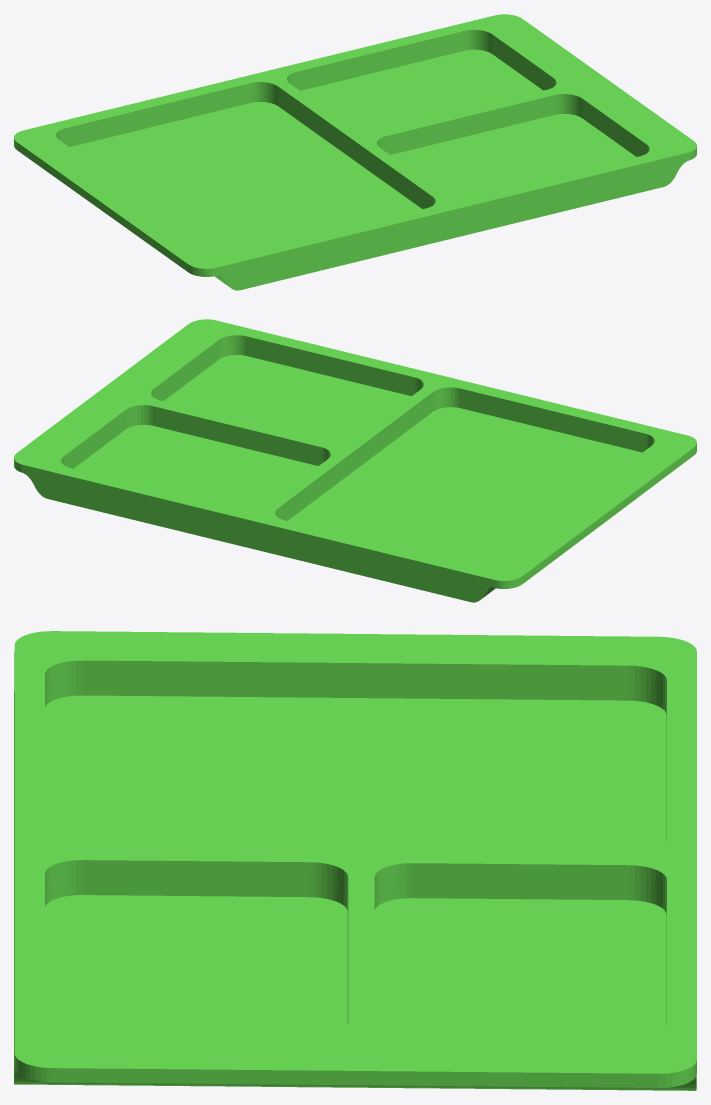
The model's file is tray_green.dae.
3 views of the same model, one above another, from view 1: azimuth 30°, elevation 25°; view 2: azimuth 150°, elevation 25°; view 3: azimuth 270°, elevation 25° (orthographic). The views are drawn at different scales.
Parts seen in each view (by area): view 1: tray-green; view 2: tray-green; view 3: tray-green.
Part boxes in pixels (<box>): tray-green: <box>14,14,696,290</box>; tray-green: <box>14,319,696,602</box>; tray-green: <box>14,631,696,1090</box>.
Size of the model in its own units: 0.3 by 0.1982 by 0.018.
